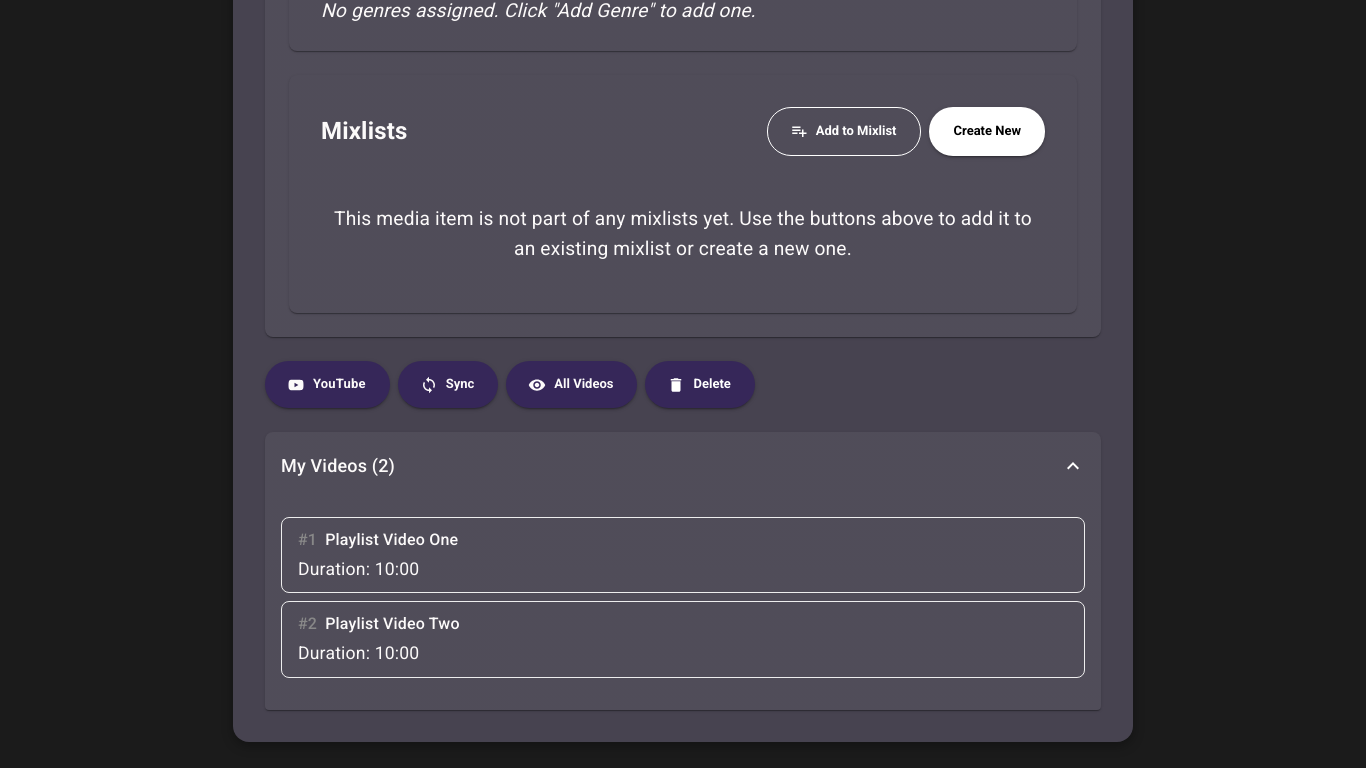
Test: YouTubePlaylistProfile › opens the delete confirmation dialog and cancels it
The image size is (1366, 768).
(page scrolled)
Click the button "Delete" at [700, 385], box [646,361,755,408]
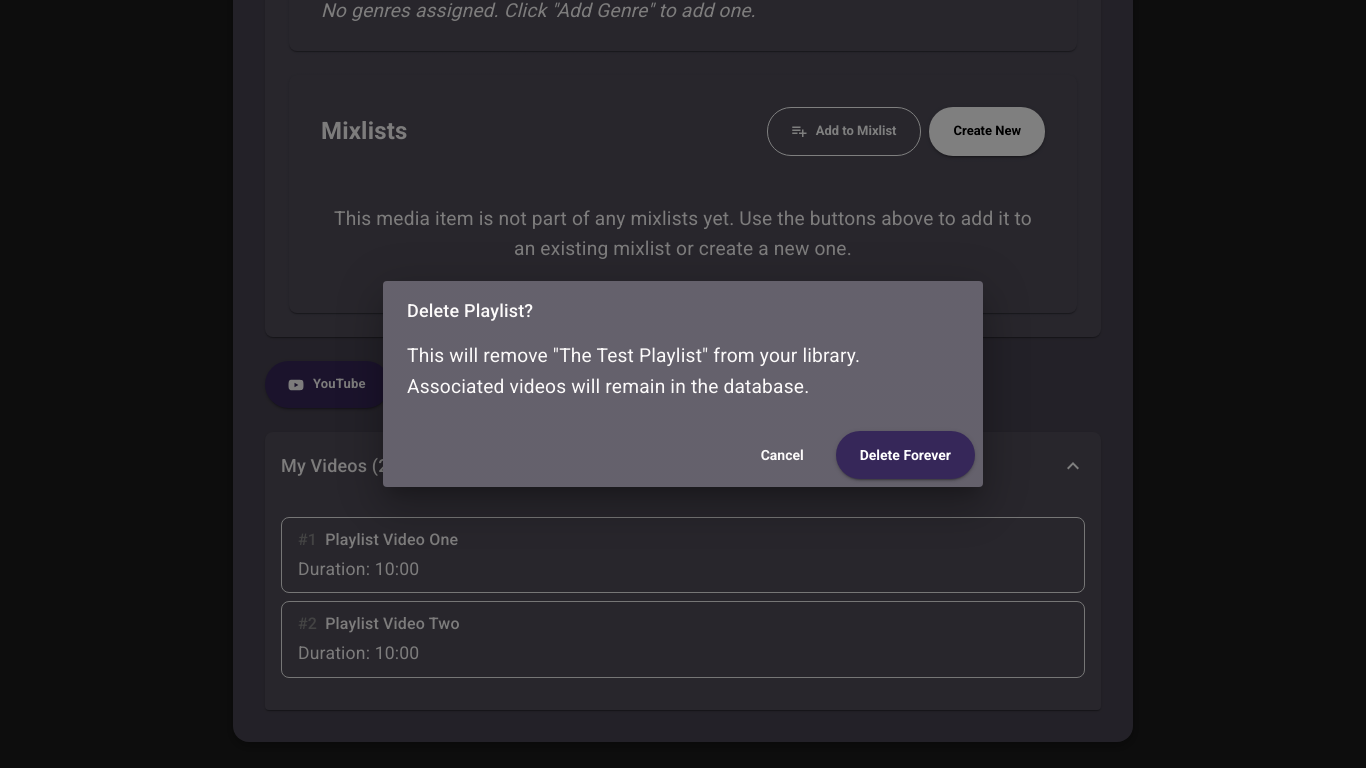
Result: the heading "Delete Playlist?" is shown at [407,300,533,321]
Result: the text "This will remove \"The Test Playlist\"" is shown at [407,344,860,398]
Click the button "Cancel" at [782, 455], box [737,431,828,479]
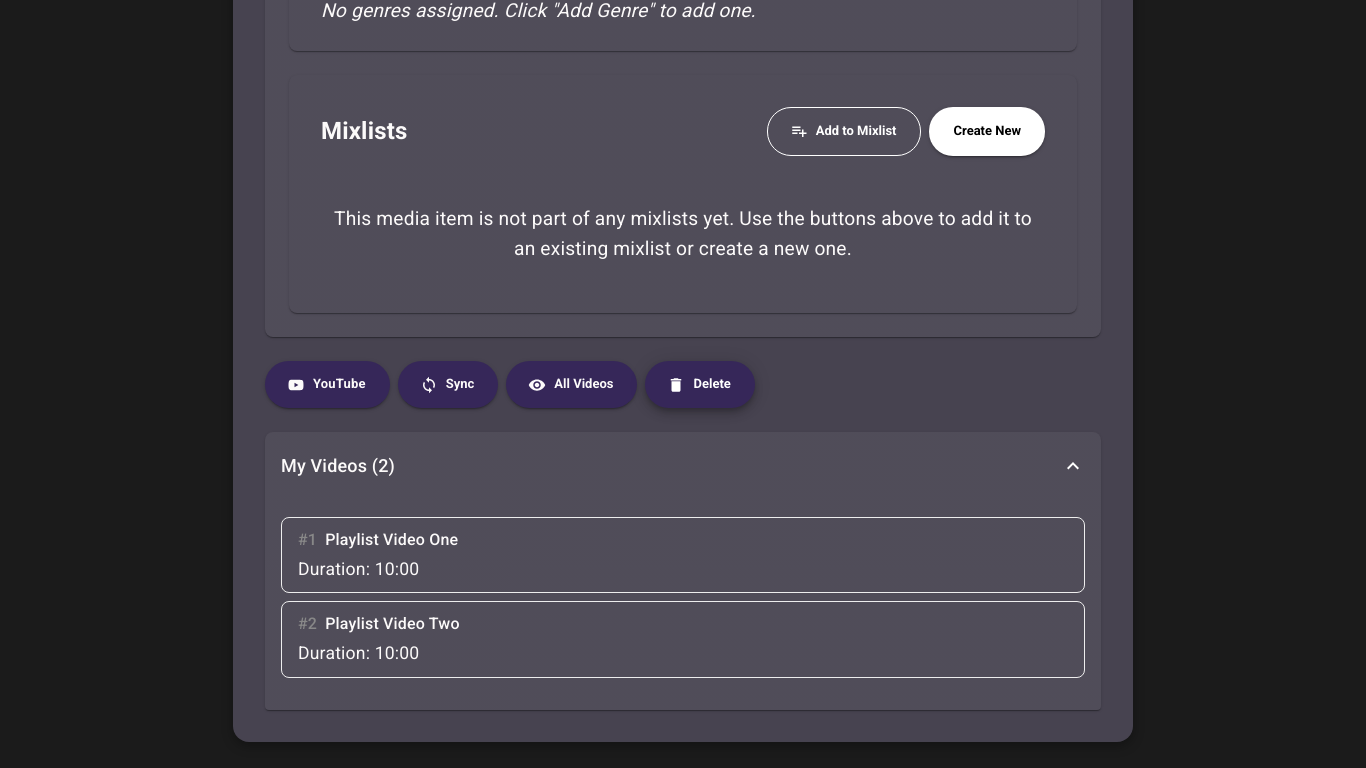
Result: the dialog is gone
